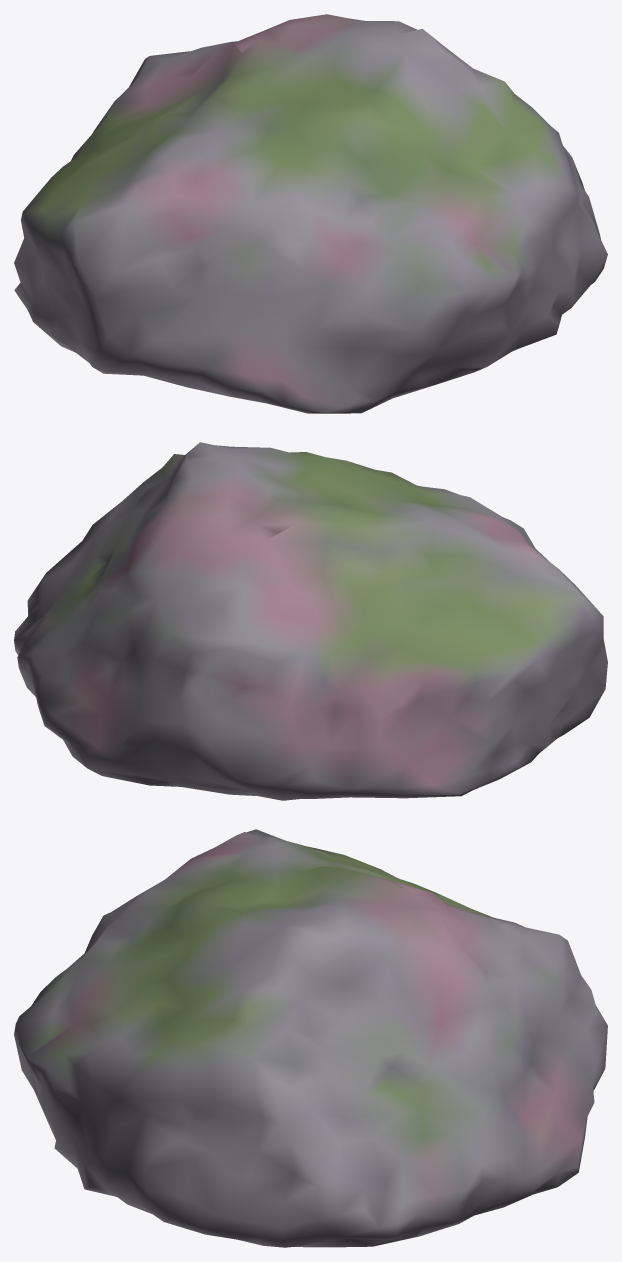
Rendered from boulder-0.glb.
3 views of the same model, one above another, from view 1: azimuth 30°, elevation 25°; view 2: azimuth 150°, elevation 25°; view 3: azimuth 270°, elevation 25° (orthographic). The views are drawn at different scales.
Parts seen in each view (by area): view 1: Boulder_0; view 2: Boulder_0; view 3: Boulder_0.
Boxes of the visible parts, x1,y1,x2,y2 form: Boulder_0: [14, 14, 607, 413]; Boulder_0: [14, 442, 607, 800]; Boulder_0: [14, 829, 607, 1247].
Bounding box in the file's own units: 0.9839 × 0.4298 × 0.8869.
